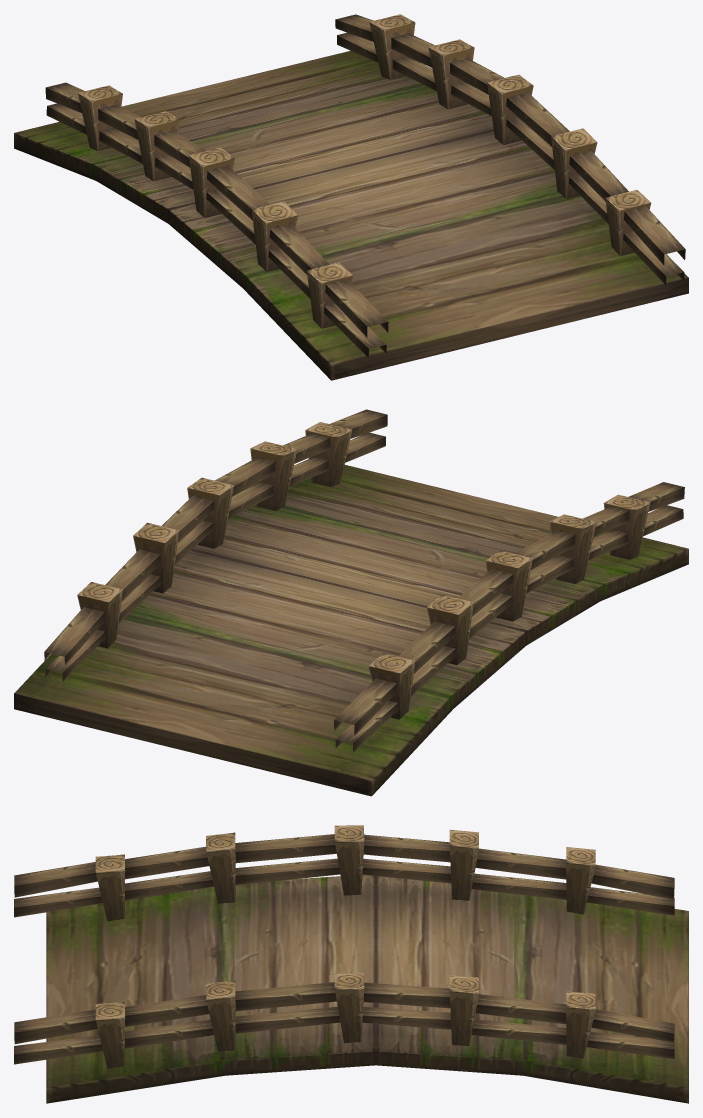
File: fb_xsc_jz_03_c.FBX
3 renders of one model, top to bottom at view 1: azimuth 30°, elevation 25°; view 2: azimuth 150°, elevation 25°; view 3: azimuth 270°, elevation 25°, orthographic.
Parts seen in each view (by area): view 1: fb_xsc_jz_03_c; view 2: fb_xsc_jz_03_c; view 3: fb_xsc_jz_03_c.
Part boxes in pixels (bbox=[...]): fb_xsc_jz_03_c: bbox=[14, 14, 688, 380]; fb_xsc_jz_03_c: bbox=[14, 409, 688, 796]; fb_xsc_jz_03_c: bbox=[14, 825, 688, 1103].
Size of the model in its own units: 1176 by 337 by 1898.
